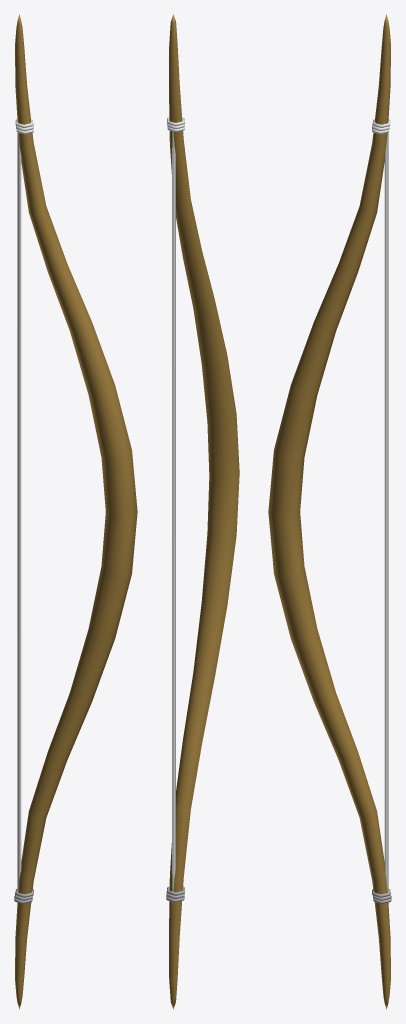
File: Arch.fbx
3 renders of one model, left to right at view 1: azimuth 90°, elevation 25°; view 2: azimuth 150°, elevation 25°; view 3: azimuth 270°, elevation 25°, orthographic.
Visible parts, largest first — view 1: pTorus10; view 2: pTorus10; view 3: pTorus10.
Boxes of the visible parts, bbox=[...] form: pTorus10: bbox=[14, 14, 137, 1009]; pTorus10: bbox=[166, 14, 239, 1009]; pTorus10: bbox=[268, 14, 391, 1009].
Bounding box in the file's own units: 0.0881 × 2.85 × 0.3198.
